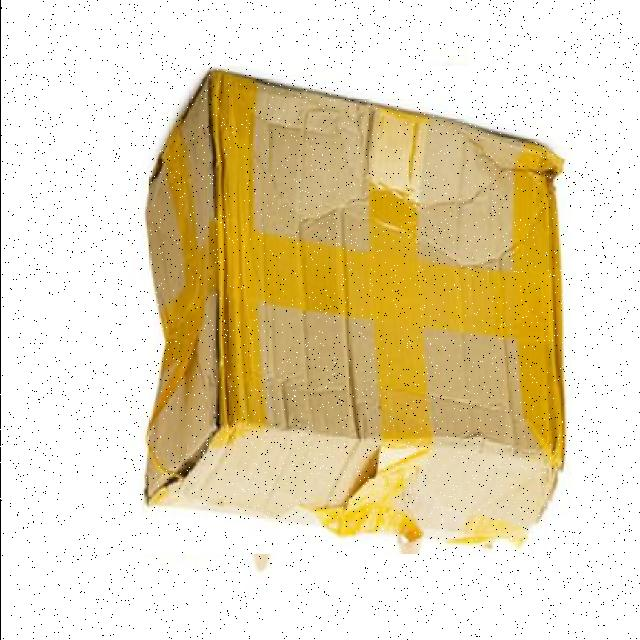normal: (95, 66, 574, 554)
